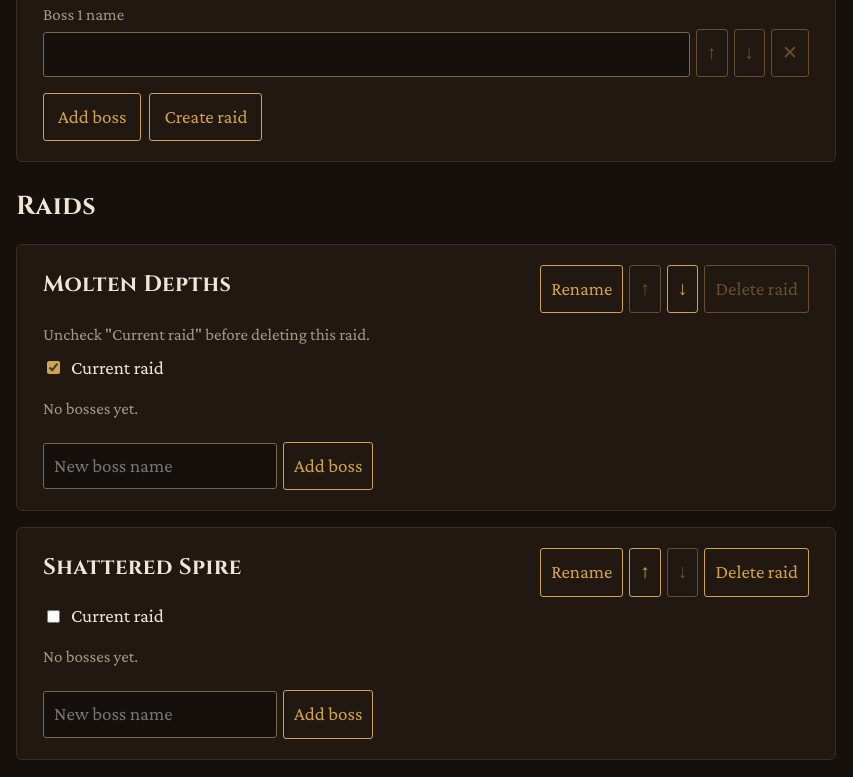
Test: OfficerRaidProgress › should remove a tier from the list when an officer confirms deleting it
(page scrolled)
# given an officer who clicked delete on a retired tier
Click the button with aria-label "Delete Shattered Spire": (757,573) [704, 548, 809, 597]
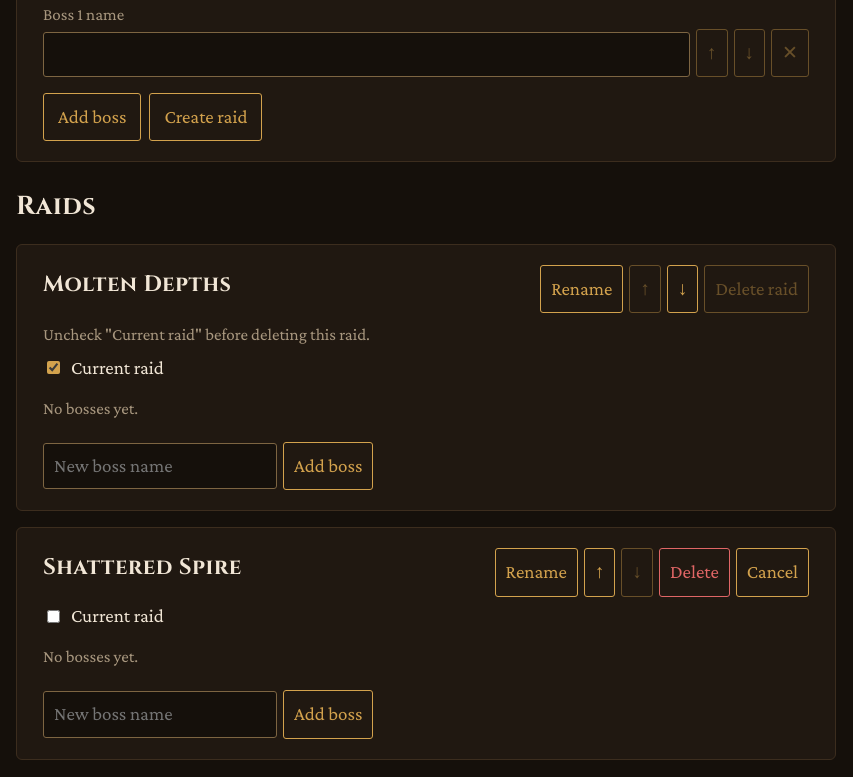
# when I confirm the delete
Click the button with aria-label "Confirm delete Shattered Spire": (694,573) [659, 548, 730, 597]
(page scrolled)
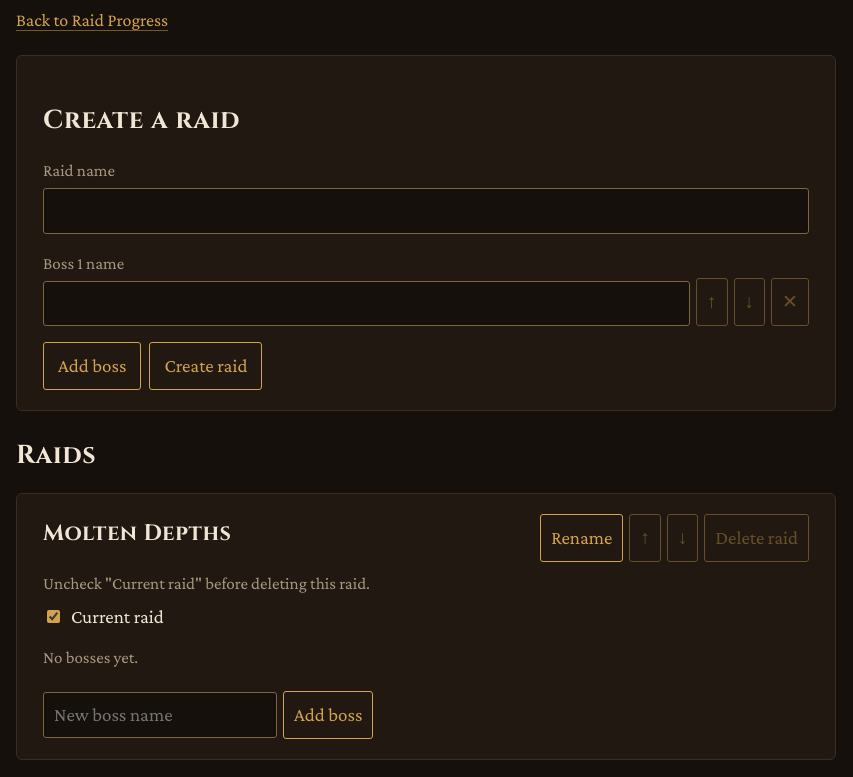
Expected: the heading "Shattered Spire" is gone
